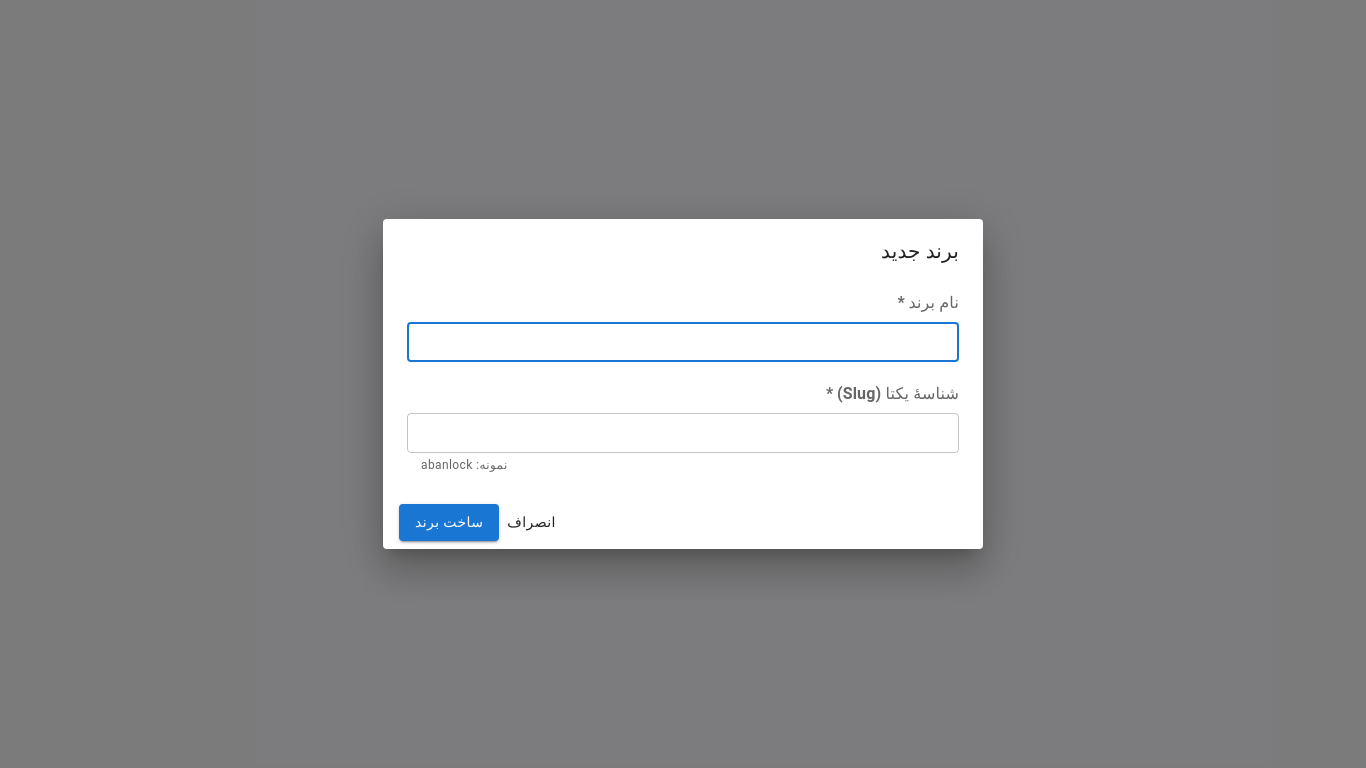
Scenario: BrandDialog › validates required fields before submitting
The image size is (1366, 768).
What coordinates should you click on to do the following:
click the button "ساخت برند"
I would click on:
 (449, 522)
Its box is [399,504,499,541].
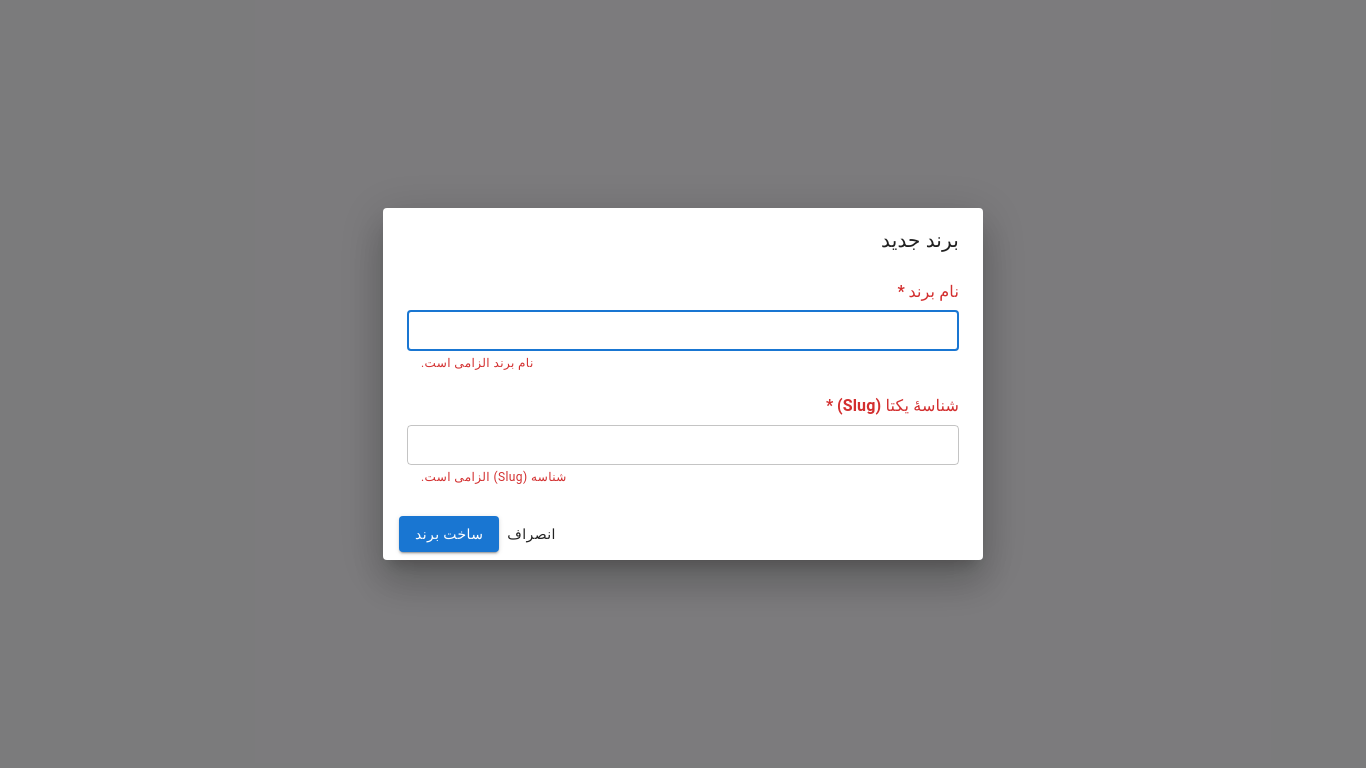
Now the text "نام برند الزامی است." is shown, box [421,356,534,370]
Now the text "شناسه (Slug) الزامی است." is shown, box [421,470,567,484]
